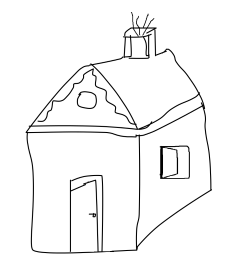door: (65, 172, 107, 257)
open_window: (160, 145, 189, 178)
roof: (25, 49, 204, 138)
smoking_chimney: (116, 7, 167, 65)
wall: (26, 128, 145, 257)
